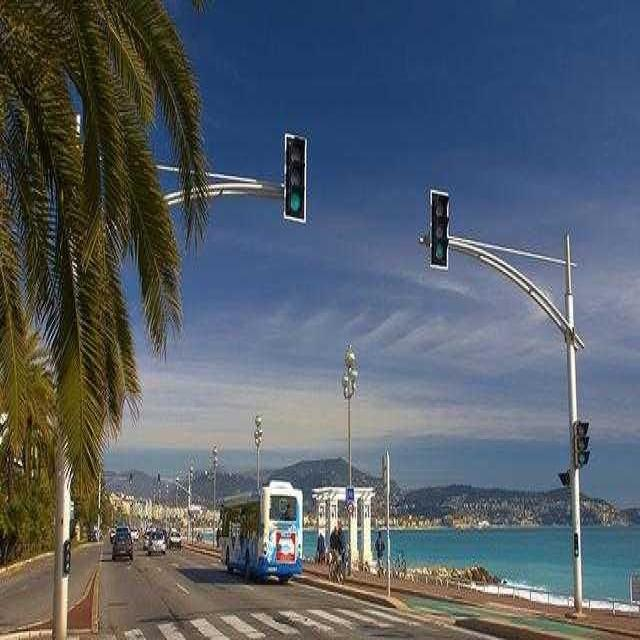Traffic Light -Green-: (281, 135, 309, 222), (430, 185, 451, 276), (570, 418, 592, 469)
